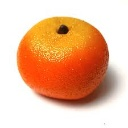orange: (15, 16, 110, 102)
